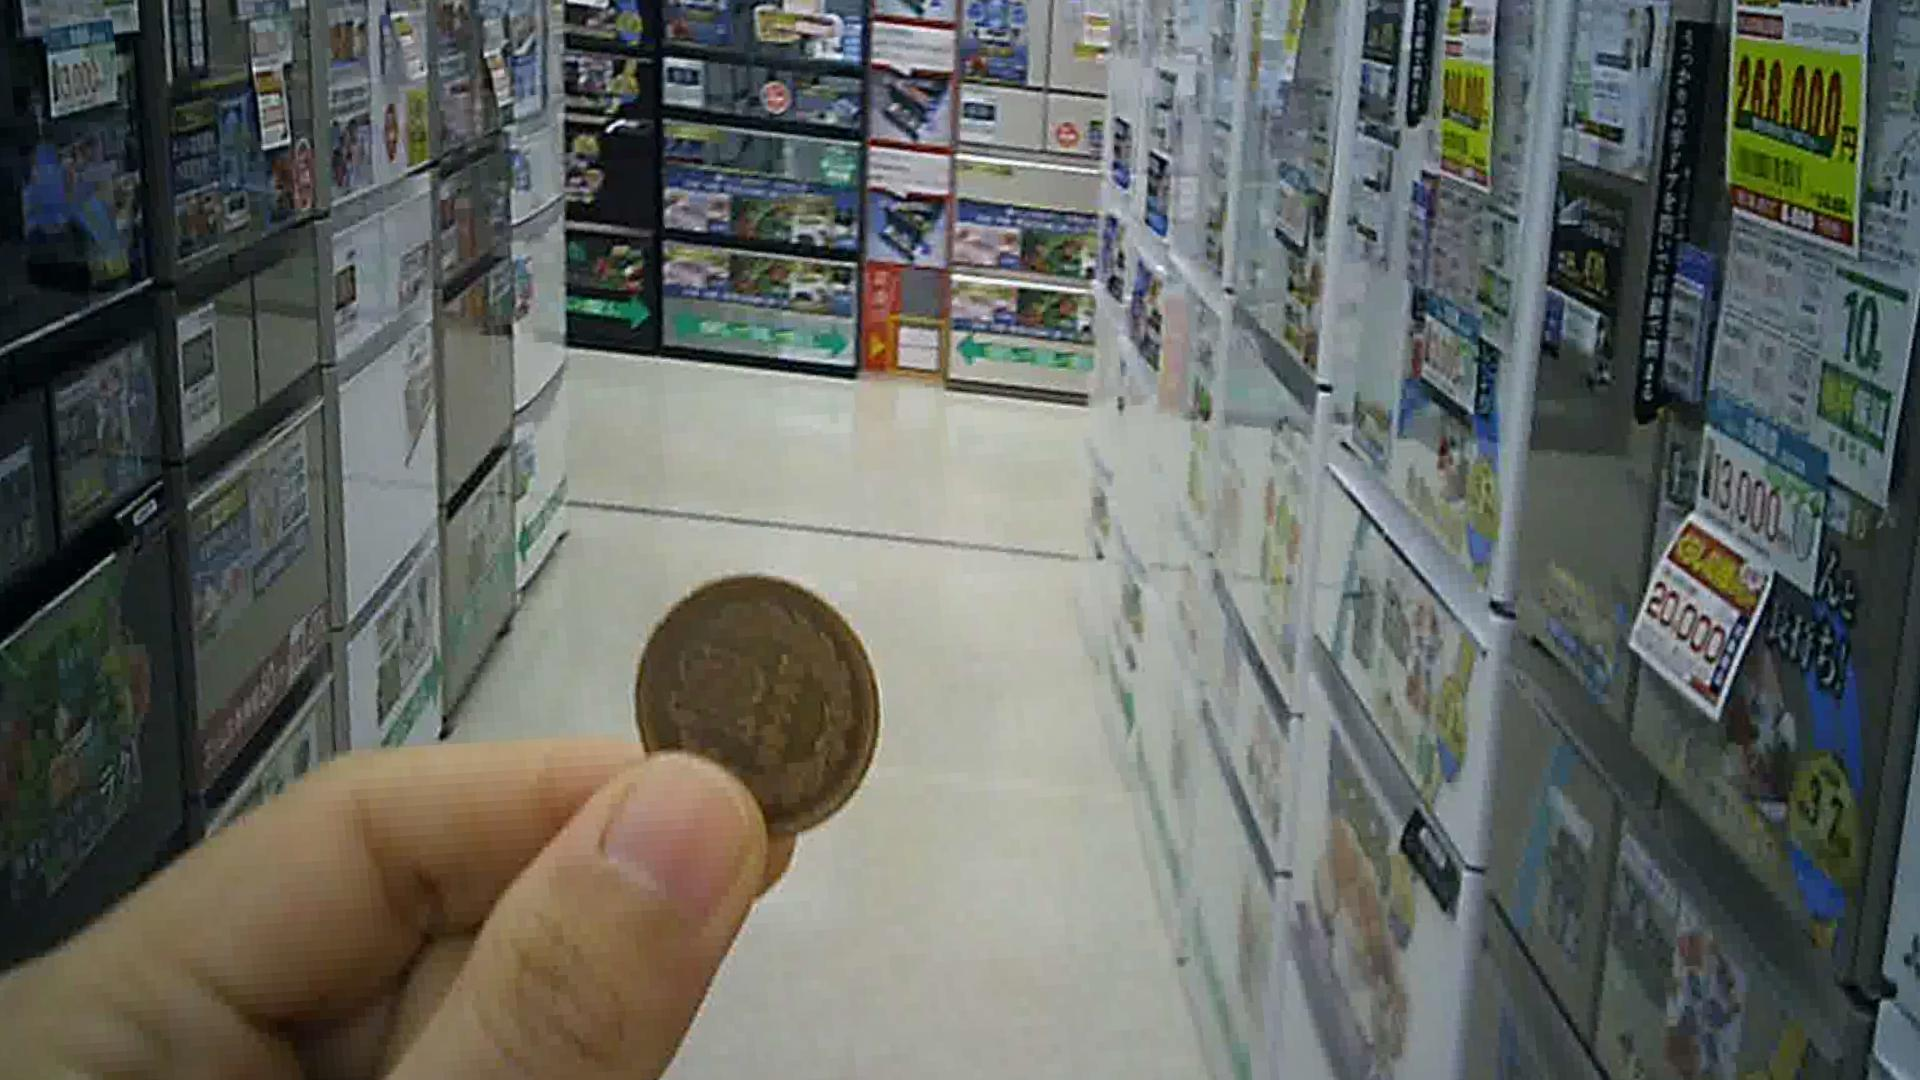10 Yen: (604, 556, 884, 858)
